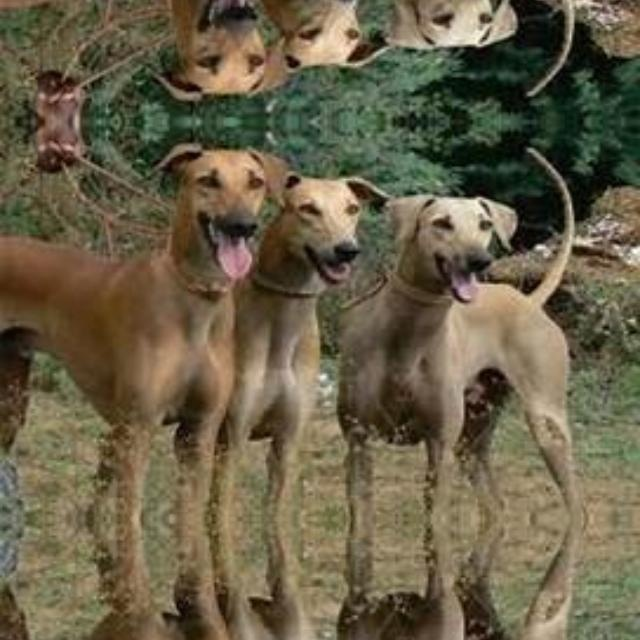dog: (0, 142, 277, 488), (382, 177, 602, 482), (0, 0, 277, 99), (0, 549, 277, 640), (381, 555, 602, 640), (266, 160, 380, 298), (381, 0, 602, 65), (266, 0, 380, 82)
